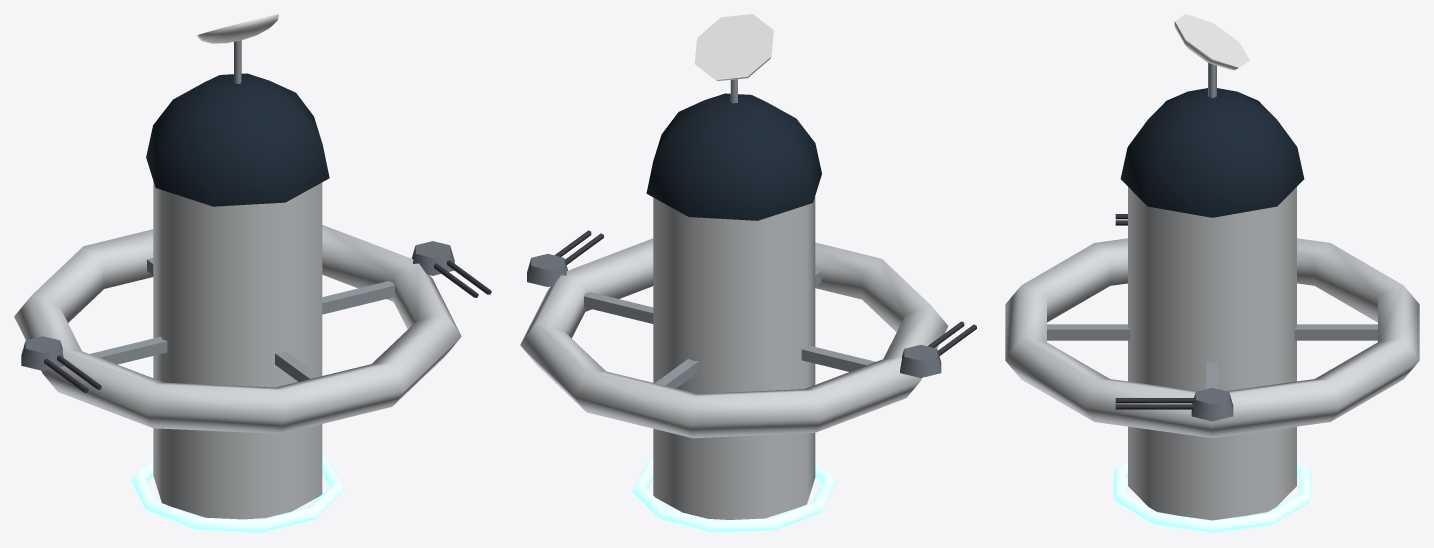
File: space_orbital_command_center_t1_lod1.glb
3 views of the same model, side by side, from view 1: azimuth 30°, elevation 25°; view 2: azimuth 150°, elevation 25°; view 3: azimuth 270°, elevation 25° (orthographic). The views are drawn at different scales.
Parts seen in each view (by area): view 1: body, ring, turret_1, turret_0, antenna_0; view 2: body, ring, antenna_0, turret_1, turret_0; view 3: body, ring, antenna_0, turret_0.
Boxes of the visible parts, <box> form: body: <box>131,73,344,533</box>; ring: <box>14,225,461,433</box>; turret_1: <box>21,336,101,392</box>; turret_0: <box>411,241,491,297</box>; antenna_0: <box>197,14,278,83</box>; body: <box>632,93,836,533</box>; ring: <box>520,238,948,438</box>; antenna_0: <box>694,14,773,103</box>; turret_1: <box>900,321,976,377</box>; turret_0: <box>527,230,603,286</box>; body: <box>1113,88,1311,533</box>; ring: <box>1005,238,1419,438</box>; antenna_0: <box>1174,14,1249,98</box>; turret_0: <box>1115,388,1233,421</box>.
Size of the model in its own units: 20 by 21.49 by 17.12.
